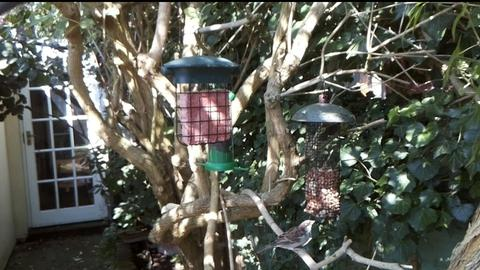sparrow: (257, 220, 316, 254)
